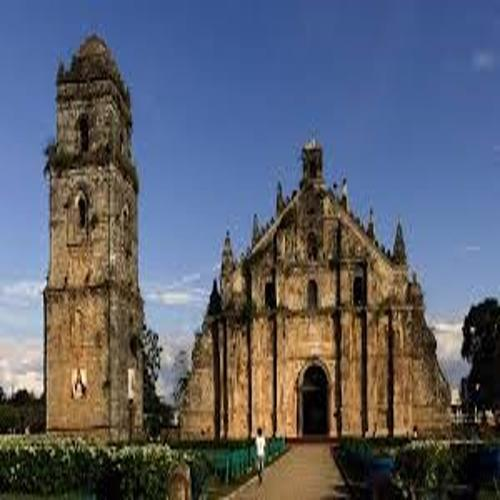Paoay Church: (36, 22, 462, 449)
